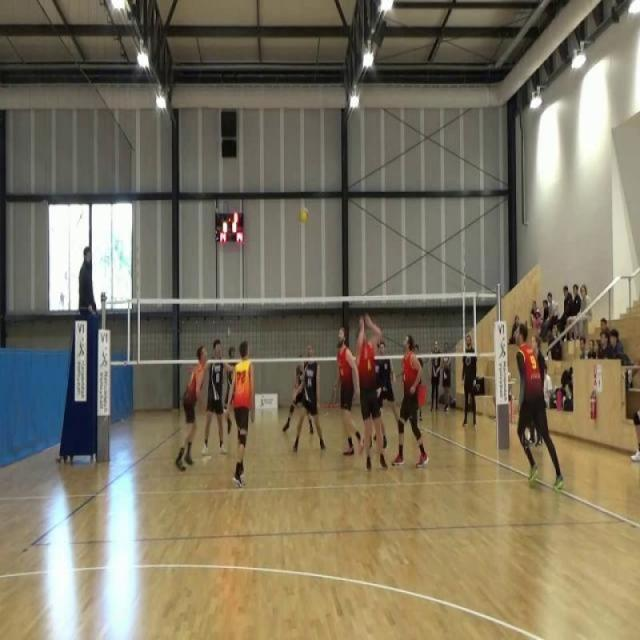volleyball: (298, 205, 310, 226)
